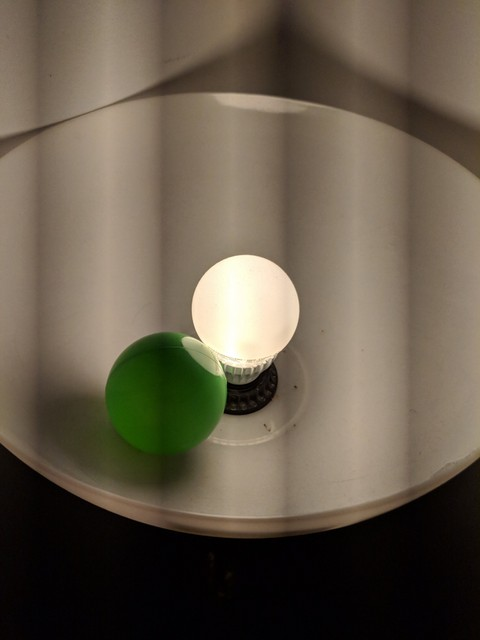Ball: (110, 332, 233, 455)
